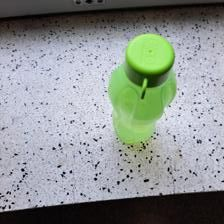bottle: (106, 33, 178, 147)
